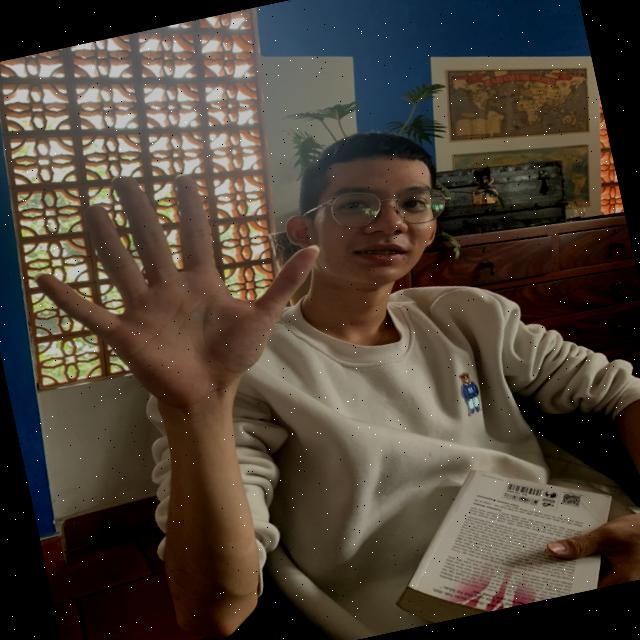hello-pyG5: (0, 114, 354, 451)
